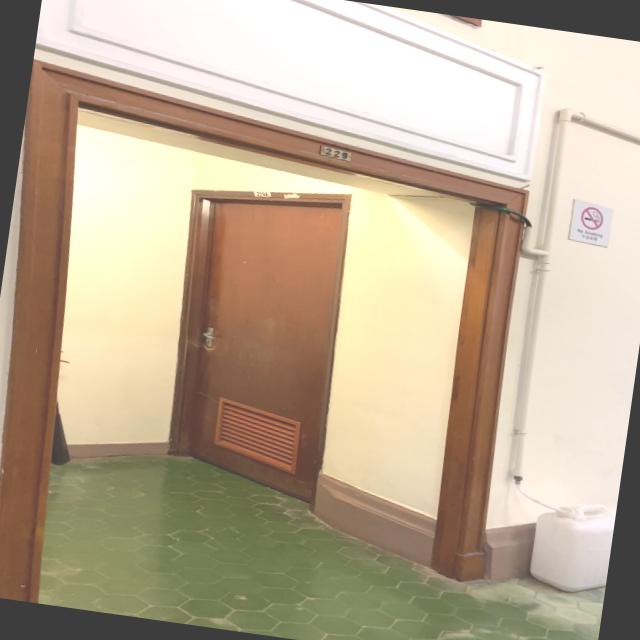room229: (316, 142, 356, 162)
